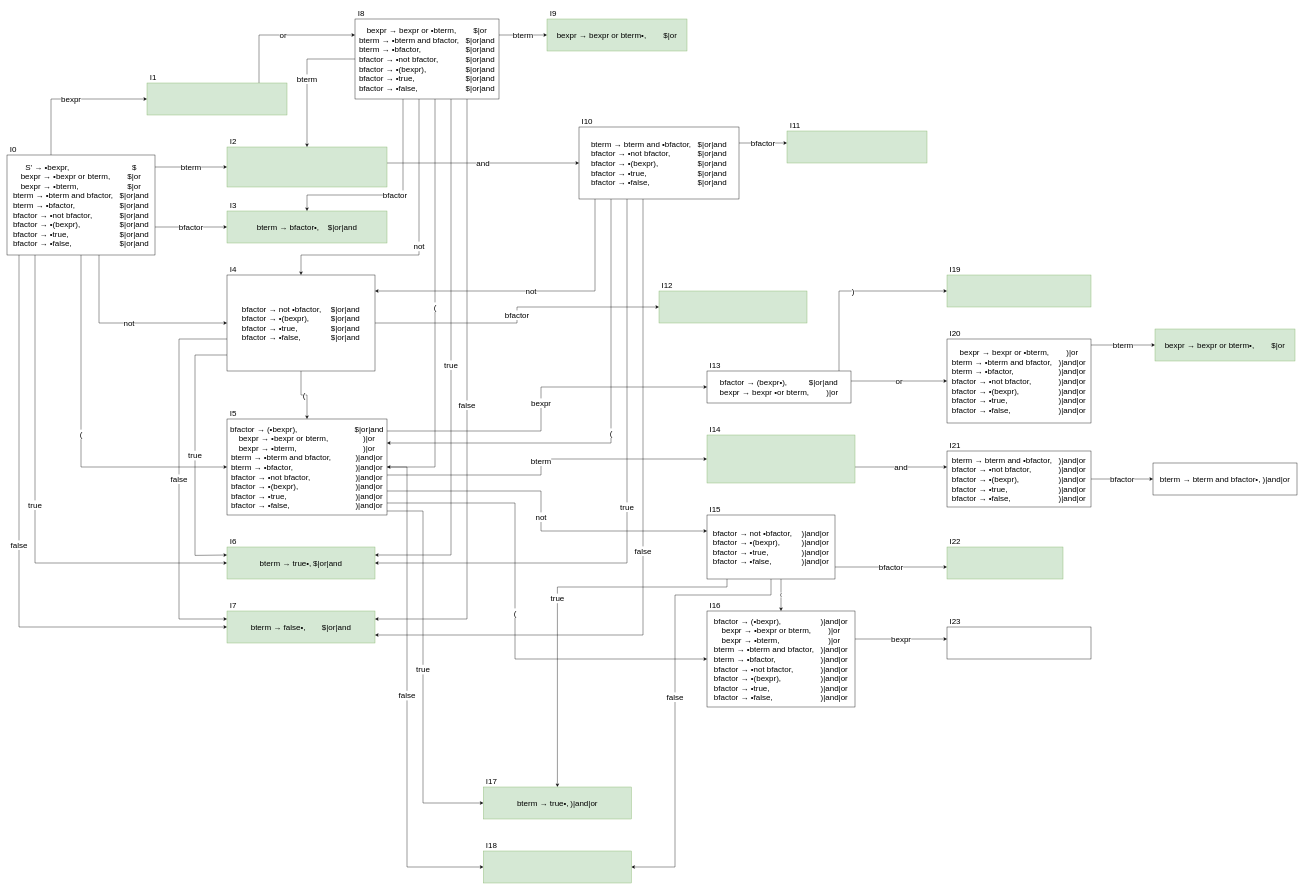
Some shapes in this 1304 by 890 pixel diagram are drawn without their labels. The shapes that lost their labels are listed below. From the top down, each one's centre as x and y in pixels, then its label:
pixel 217 99: S' → bexpr•, $ bexpr → bexpr •or bterm, $|or
pixel 307 167: bexpr → bterm•, $|or bterm → bterm •and bfactor, $|or|and
pixel 857 147: bterm → bterm and bfactor•, $|or|and
pixel 733 307: bfactor → not bfactor•, $|or|and
pixel 1019 291: bfactor → (bexpr)•, $|or|and
pixel 781 459: bexpr → bterm•, )|or bterm → bterm •and bfactor, )|and|or
pixel 1005 563: bfactor → not bfactor•, )|and
pixel 1019 643: bfactor → (bexpr•), )|and|or bexpr → bexpr •or bterm, )|or
pixel 557 867: bterm → false•, )|and|or
